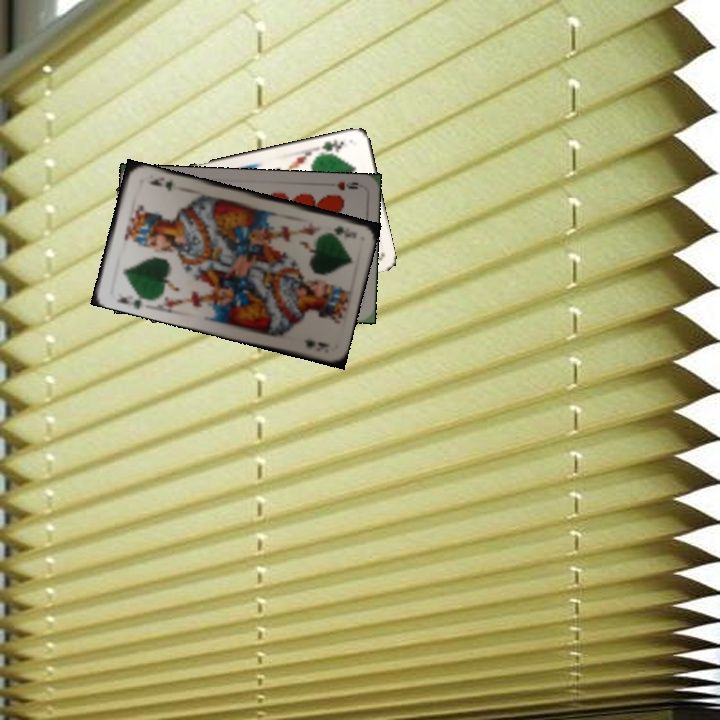GK: (112, 290, 150, 311), (313, 135, 346, 155), (330, 222, 354, 240)
H9: (332, 178, 361, 193)
